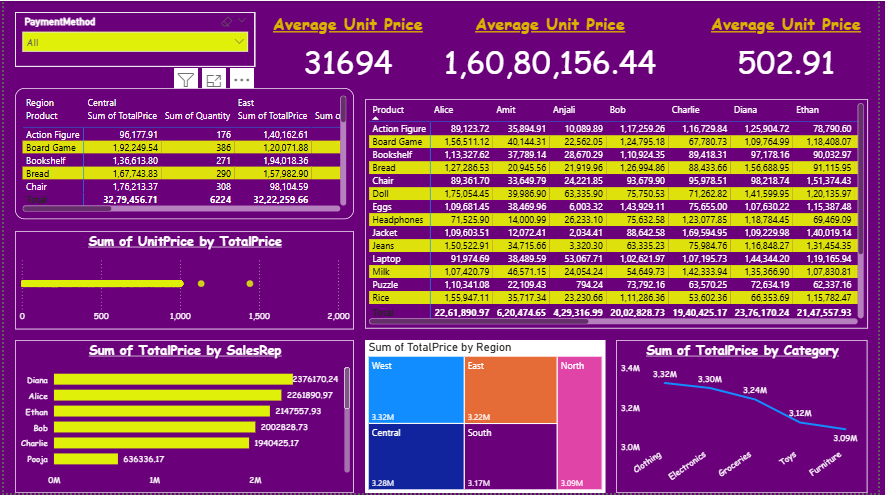

The page's visual inventory and layout, read from the dashboard file:
{"tool":"powerbi","page":{"name":"Page 2","canvas":[1280,720],"ordinal":1},"visuals":[{"type":"barChart","fields":{"Category":["Business_Analysis_Dataset_Updated.SalesRep"],"Y":["Business_Analysis_Dataset_Updated.TotalPrice"]},"box":[16,496,496,224],"z":0},{"type":"card","title":"Average Unit Price","fields":{"Values":["Business_Analysis_Dataset_Updated.UnitPrice"]},"box":[1024,16,240,112],"z":1000},{"type":"card","title":"Average Unit Price","fields":{"Values":["Business_Analysis_Dataset_Updated.TotalPrice"]},"box":[608,16,384,112],"z":2000},{"type":"card","title":"Average Unit Price","fields":{"Values":["Business_Analysis_Dataset_Updated.Quantity"]},"box":[384,16,240,112],"z":3000},{"type":"slicer","fields":{"Values":["Business_Analysis_Dataset_Updated.PaymentMethod"]},"box":[16,16,352,80],"z":4000},{"type":"scatterChart","fields":{"X":["Business_Analysis_Dataset_Updated.UnitPrice"],"Category":["Business_Analysis_Dataset_Updated.TotalPrice"]},"box":[16,336,496,144],"z":5000},{"type":"treemap","fields":{"Group":["Business_Analysis_Dataset_Updated.Region"],"Values":["Business_Analysis_Dataset_Updated.TotalPrice"]},"box":[528,496,352,224],"z":6000},{"type":"lineChart","fields":{"Category":["Business_Analysis_Dataset_Updated.Category"],"Y":["Business_Analysis_Dataset_Updated.TotalPrice"]},"box":[896,496,368,224],"z":7000},{"type":"pivotTable","fields":{"Rows":["Business_Analysis_Dataset_Updated.Product"],"Columns":["Business_Analysis_Dataset_Updated.SalesRep"],"Values":["Business_Analysis_Dataset_Updated.TotalPrice"]},"box":[528,144,736,336],"z":8000},{"type":"pivotTable","fields":{"Rows":["Business_Analysis_Dataset_Updated.Product"],"Columns":["Business_Analysis_Dataset_Updated.Region"],"Values":["Business_Analysis_Dataset_Updated.TotalPrice","Business_Analysis_Dataset_Updated.Quantity"]},"box":[16,128,496,192],"z":9000}]}

Visuals, with their boxes in screenshot pixels (x1, y1, x2, y2), scaled from the page's 1280x720 canvas onto the 885x495 screenshot:
barChart - Business_Analysis_Dataset_Updated.SalesRep x Business_Analysis_Dataset_Updated.TotalPrice: [11,341,354,494]
"Average Unit Price" card: [708,11,874,88]
"Average Unit Price" card: [420,11,686,88]
"Average Unit Price" card: [266,11,431,88]
slicer - Business_Analysis_Dataset_Updated.PaymentMethod: [11,11,254,66]
scatterChart - Business_Analysis_Dataset_Updated.UnitPrice x Business_Analysis_Dataset_Updated.TotalPrice: [11,231,354,330]
treemap - Business_Analysis_Dataset_Updated.Region x Business_Analysis_Dataset_Updated.TotalPrice: [365,341,608,494]
lineChart - Business_Analysis_Dataset_Updated.Category x Business_Analysis_Dataset_Updated.TotalPrice: [620,341,874,494]
pivotTable - Business_Analysis_Dataset_Updated.Product x Business_Analysis_Dataset_Updated.SalesRep: [365,99,874,330]
pivotTable - Business_Analysis_Dataset_Updated.Product x Business_Analysis_Dataset_Updated.Region: [11,88,354,220]
